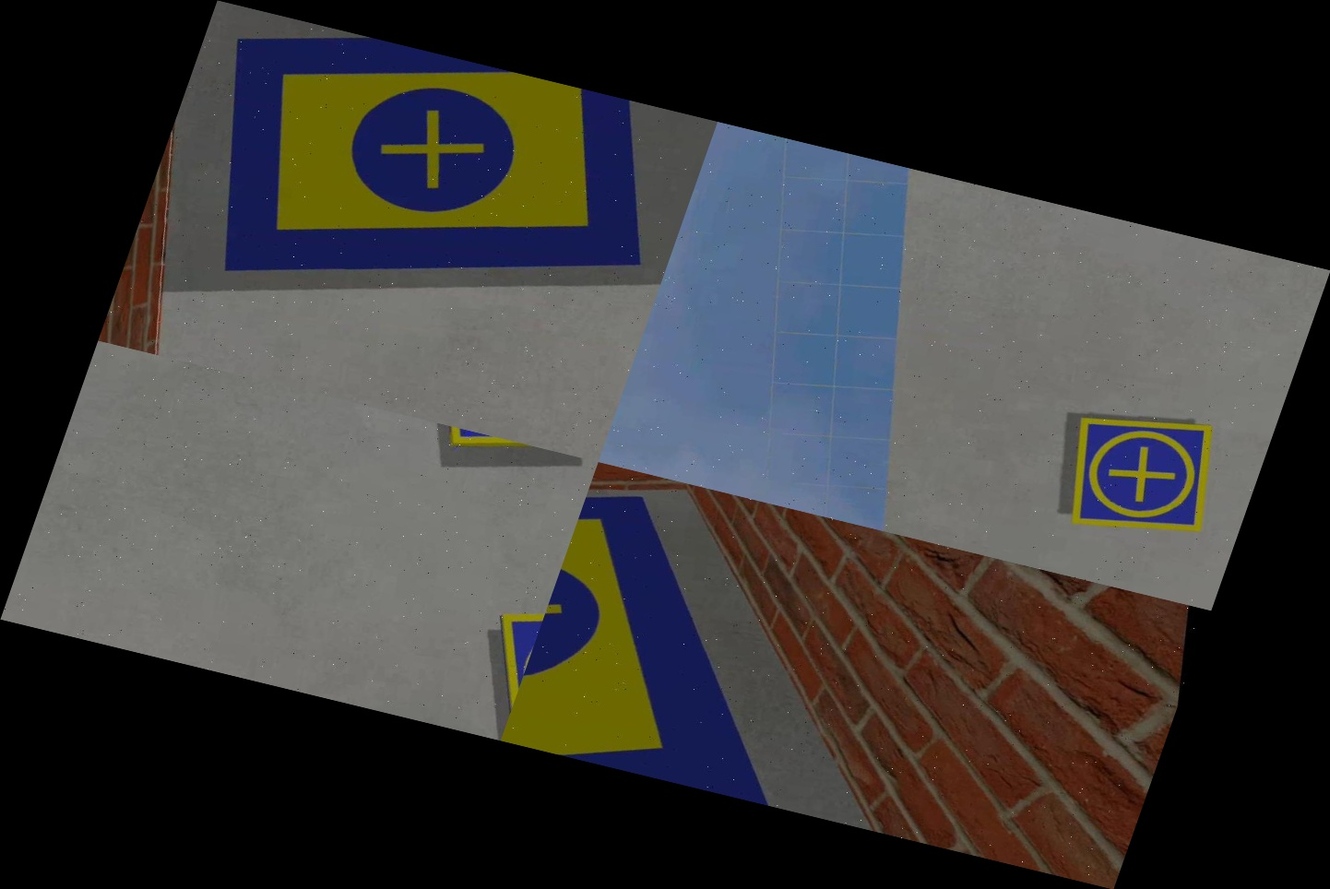large_base: (148, 6, 705, 373), (501, 462, 887, 811)
small_base: (1045, 394, 1237, 555), (454, 570, 556, 741), (417, 420, 598, 480)
